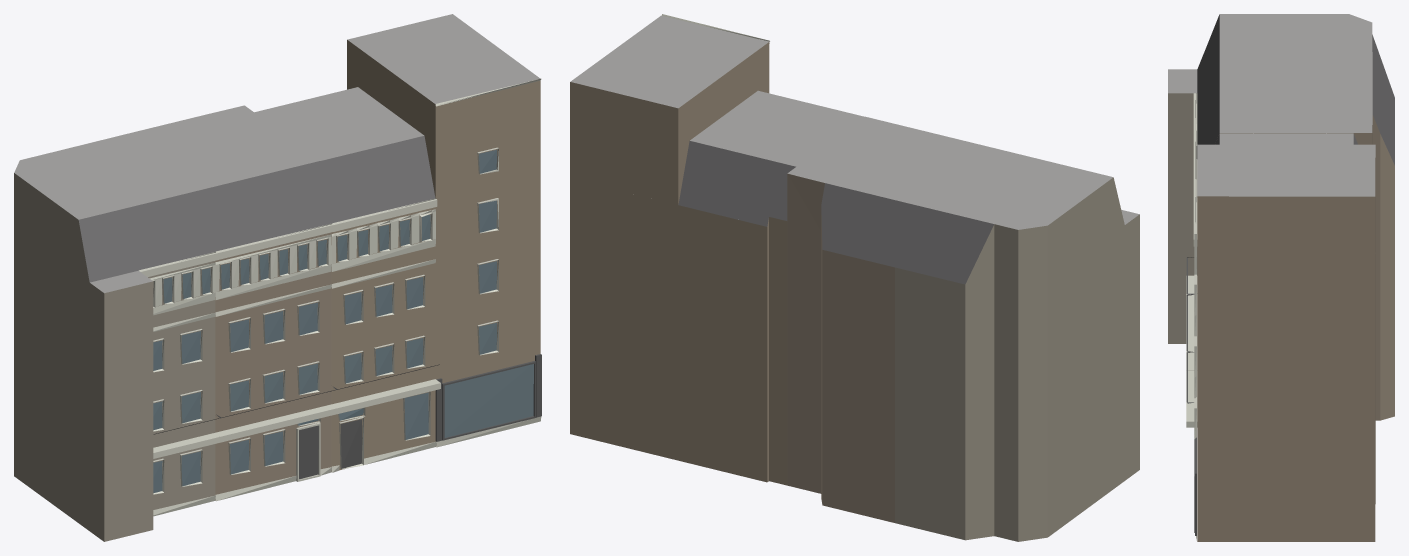
File: chunk-face-evertsen-139-143.lod2.glb
3 renders of one model, left to right at view 1: azimuth 30°, elevation 25°; view 2: azimuth 150°, elevation 25°; view 3: azimuth 270°, elevation 25°, orthographic. The views are drawn at different scales.
Visible parts, largest first — view 1: lod2; view 2: lod2; view 3: lod2.
Boxes of the visible parts, x1=… form: lod2: x1=14, y1=14, x2=541, y2=541; lod2: x1=570, y1=14, x2=1139, y2=541; lod2: x1=1168, y1=14, x2=1394, y2=541.
Bounding box in the file's own units: 24 × 17.44 × 10.36.
